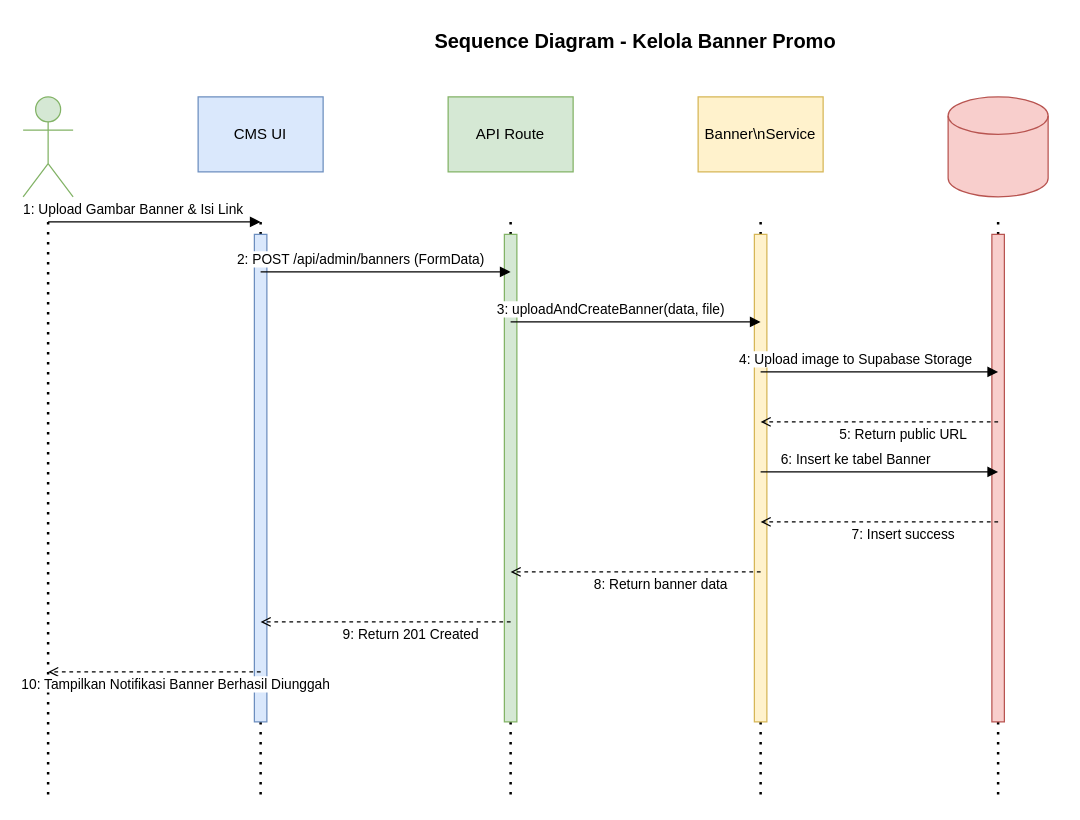
The diagram is 1080 pixels wide and 820 high, and some of its shapes have lost their labels. Here are the shapes that lost their labels. From the top down, the centre of each, then its label:
At point 47,146: "Admin".
At point 997,146: "Database/Storage".
